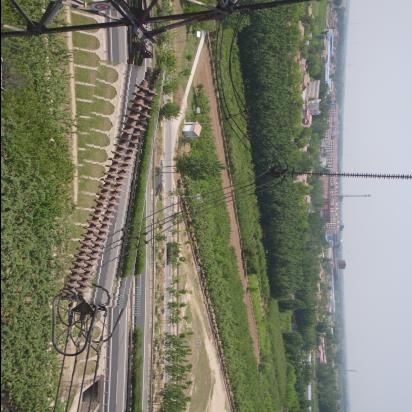insulator: (71, 62, 157, 309)
